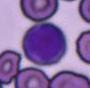L: (22, 22, 68, 66)
